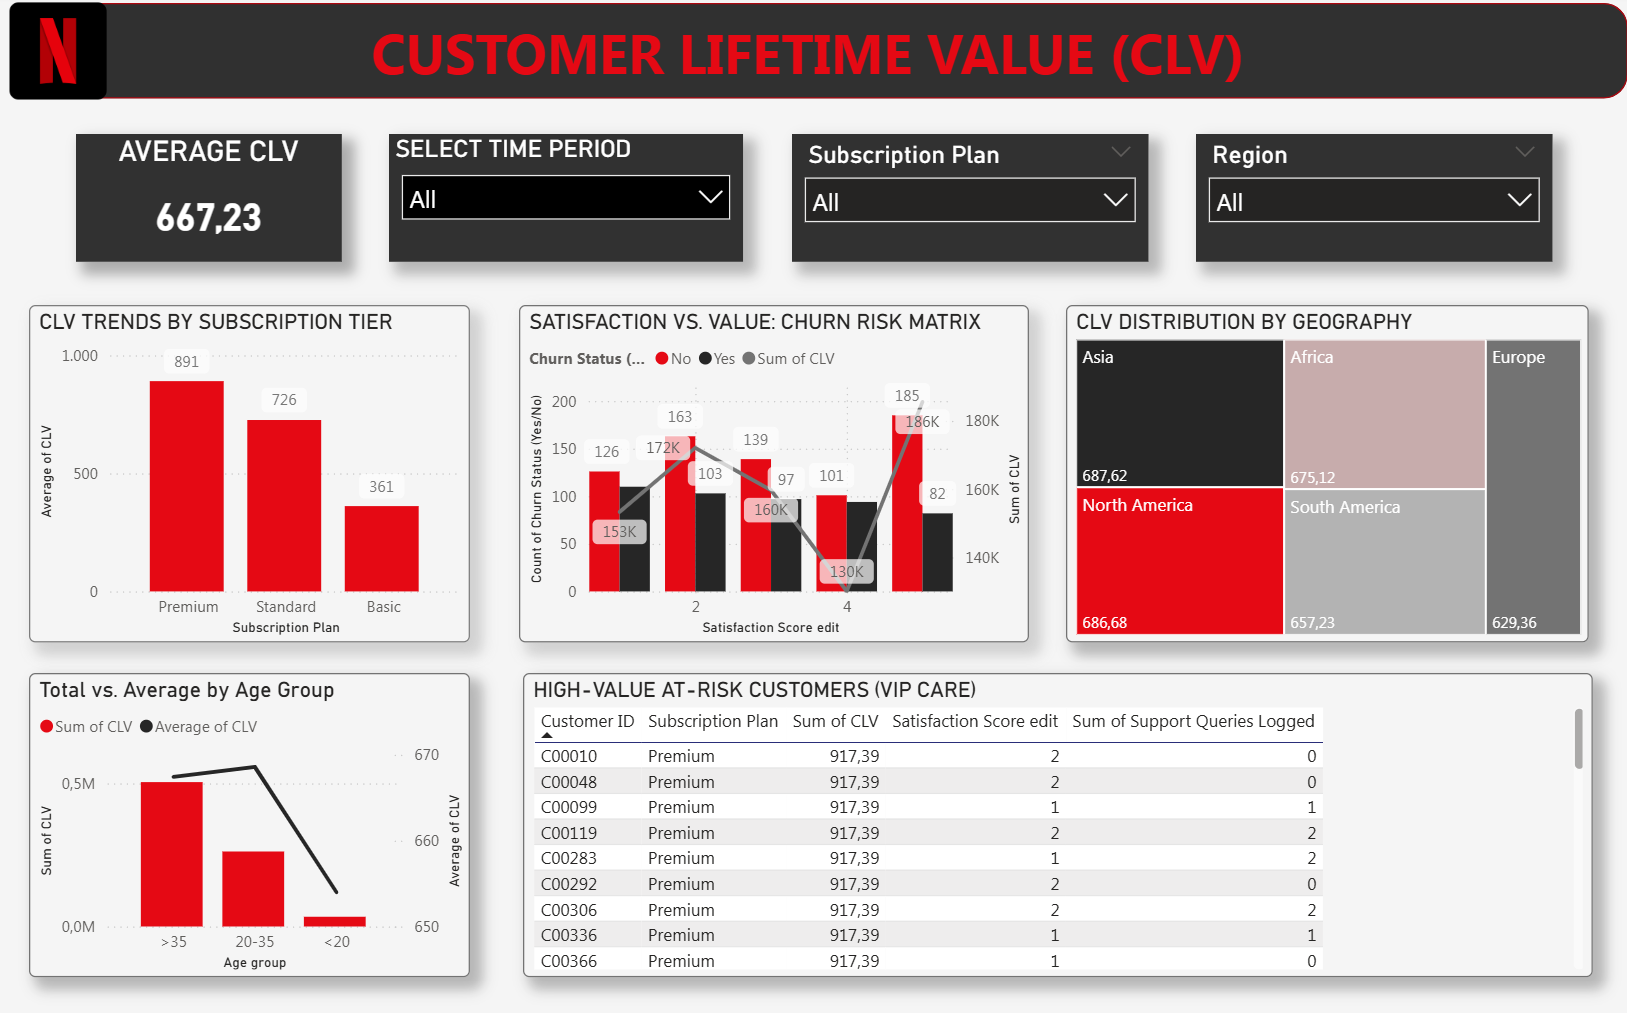

This screenshot's page, from the dashboard's own definition file:
{"tool":"powerbi","page":{"name":"CLV","canvas":[1280,800],"ordinal":3},"visuals":[{"type":"card","title":"AVERAGE CLV","fields":{"Values":["Avg(Dim_User_Subscription.CLV)"]},"box":[61.1,108.4,207.7,99.8],"z":0},{"type":"treemap","title":"CLV DISTRIBUTION BY GEOGRAPHY","fields":{"Group":["Dim_Customer.Region"],"Values":["Avg(Dim_User_Subscription.CLV)"]},"box":[835.6,241.8,409,264.1],"z":1000},{"type":"lineStackedColumnComboChart","title":"CLV TRENDS BY SUBSCRIPTION TIER","fields":{"Y":["Avg(Dim_User_Subscription.CLV)"],"Category":["Dim_Subscription_Plan.Subscription Plan"]},"box":[24,241.8,344.6,264.1],"z":2000},{"type":"lineStackedColumnComboChart","title":"Total vs. Average by Age Group","fields":{"Category":["Dim_Customer.Age group"],"Y":["Sum(Dim_User_Subscription.CLV)"],"Y2":["Avg(Dim_User_Subscription.CLV)"]},"box":[23.9,529.9,344.6,238.3],"z":3000},{"type":"lineClusteredColumnComboChart","title":"SATISFACTION VS. VALUE: CHURN RISK MATRIX","fields":{"Y2":["Sum(Dim_User_Subscription.CLV)"],"Category":["Fact_Customer_Q4.Satisfaction Score edit"],"Y":["CountNonNull(Dim_User_Subscription.Churn Status (Yes/No))"],"Series":["Dim_User_Subscription.Churn Status (Yes/No)"]},"box":[407.3,241.8,399.4,264.1],"z":4000},{"type":"tableEx","title":"HIGH-VALUE AT-RISK CUSTOMERS (VIP CARE)","fields":{"Values":["Dim_Customer.Customer ID","Dim_Subscription_Plan.Subscription Plan","Sum(Dim_User_Subscription.CLV)","Fact_Customer_Q4.Satisfaction Score edit","Sum(Fact_Customer_Q4.Support Queries Logged)"]},"box":[410.4,529.9,837.4,238.3],"z":5000},{"type":"slicer","title":"SELECT TIME PERIOD","fields":{"Values":["Dim_User_Subscription.First Day.Variation.Date Hierarchy.Year"]},"box":[305.9,108.4,277,99.8],"z":6000},{"type":"slicer","fields":{"Values":["Dim_User_Subscription.Subscription Plan"]},"box":[621.5,108.4,278.6,99.8],"z":7000},{"type":"slicer","fields":{"Values":["Dim_Customer.Region"]},"box":[937.1,108.4,278.6,99.8],"z":8000},{"type":"shape","box":[15.8,5.7,1259.4,74.7],"z":9000},{"type":"image","box":[0,0,93.3,86.2],"z":10000},{"type":"textbox","box":[287.2,10.1,706.5,76.1],"z":11000}]}

Visuals, with their boxes in screenshot pixels (x1, y1, x2, y2), scaled from the page's 1280x800 canvas onto the 1627x1013 screenshot:
"AVERAGE CLV" card: locate(78, 137, 342, 264)
"CLV DISTRIBUTION BY GEOGRAPHY" treemap: locate(1062, 306, 1582, 641)
"CLV TRENDS BY SUBSCRIPTION TIER" lineStackedColumnComboChart: locate(31, 306, 469, 641)
"Total vs. Average by Age Group" lineStackedColumnComboChart: locate(30, 671, 468, 973)
"SATISFACTION VS. VALUE: CHURN RISK MATRIX" lineClusteredColumnComboChart: locate(518, 306, 1025, 641)
"HIGH-VALUE AT-RISK CUSTOMERS (VIP CARE)" tableEx: locate(522, 671, 1586, 973)
"SELECT TIME PERIOD" slicer: locate(389, 137, 741, 264)
slicer - Dim_User_Subscription.Subscription Plan: locate(790, 137, 1144, 264)
slicer - Dim_Customer.Region: locate(1191, 137, 1545, 264)
shape: locate(20, 7, 1621, 102)
image: locate(0, 0, 119, 109)
textbox: locate(365, 13, 1263, 109)
